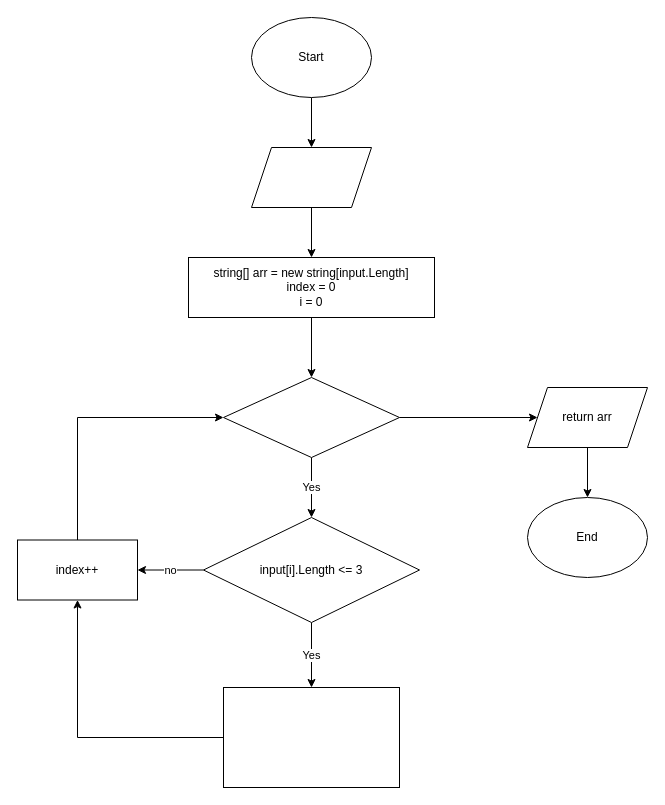
This 665x805 diagram has some shape labels left out. The shapes that lost their labels are listed below. From the top down, each one's centre as x and y in pixels, then its label:
the point at 311,177: string[] input
the point at 311,417: i < input.Length
the point at 311,737: arr[index] = input[i]
